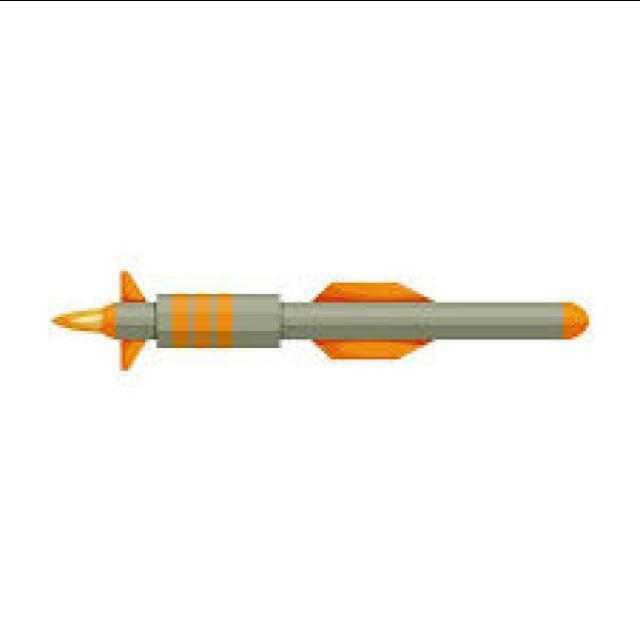Missile: (44, 283, 620, 353)
